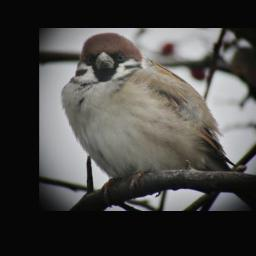Sparrow: (61, 32, 237, 207)
